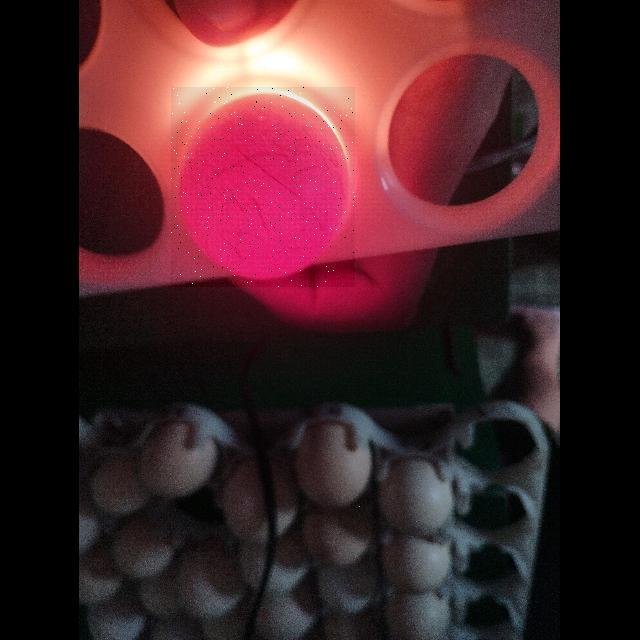Infertile: (171, 87, 355, 287)
